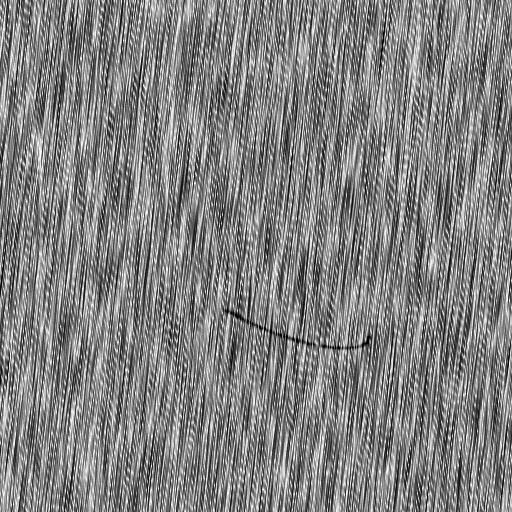DefectTypeC: (224, 310, 372, 351)
